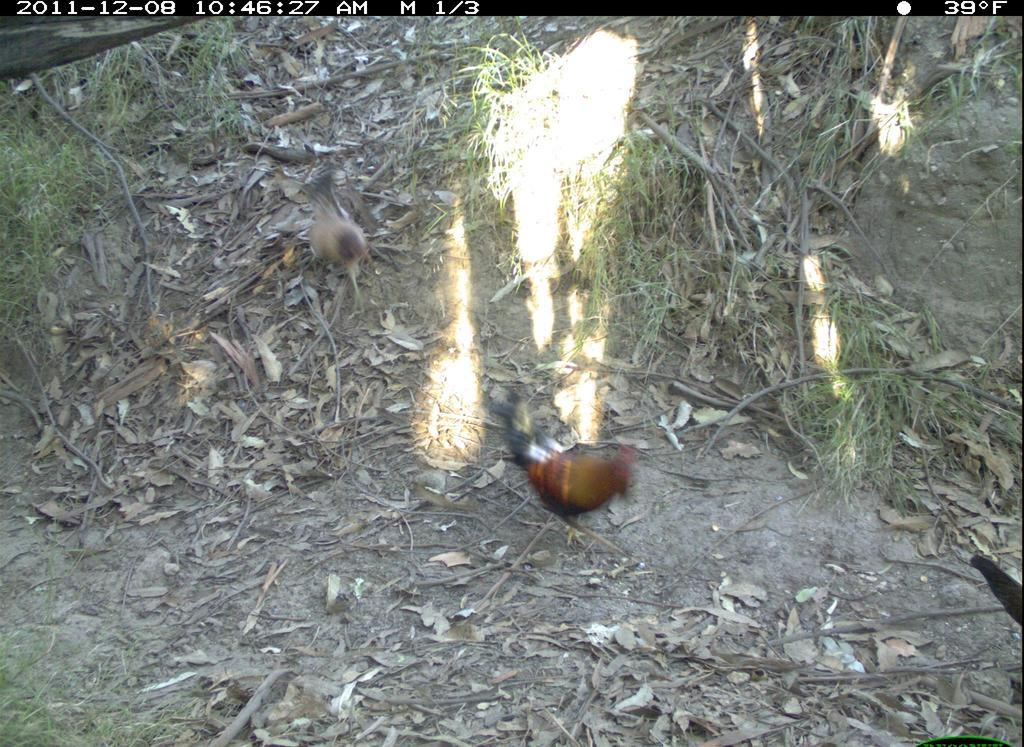bird: (486, 396, 637, 553), (299, 168, 383, 319), (964, 542, 1023, 651)
